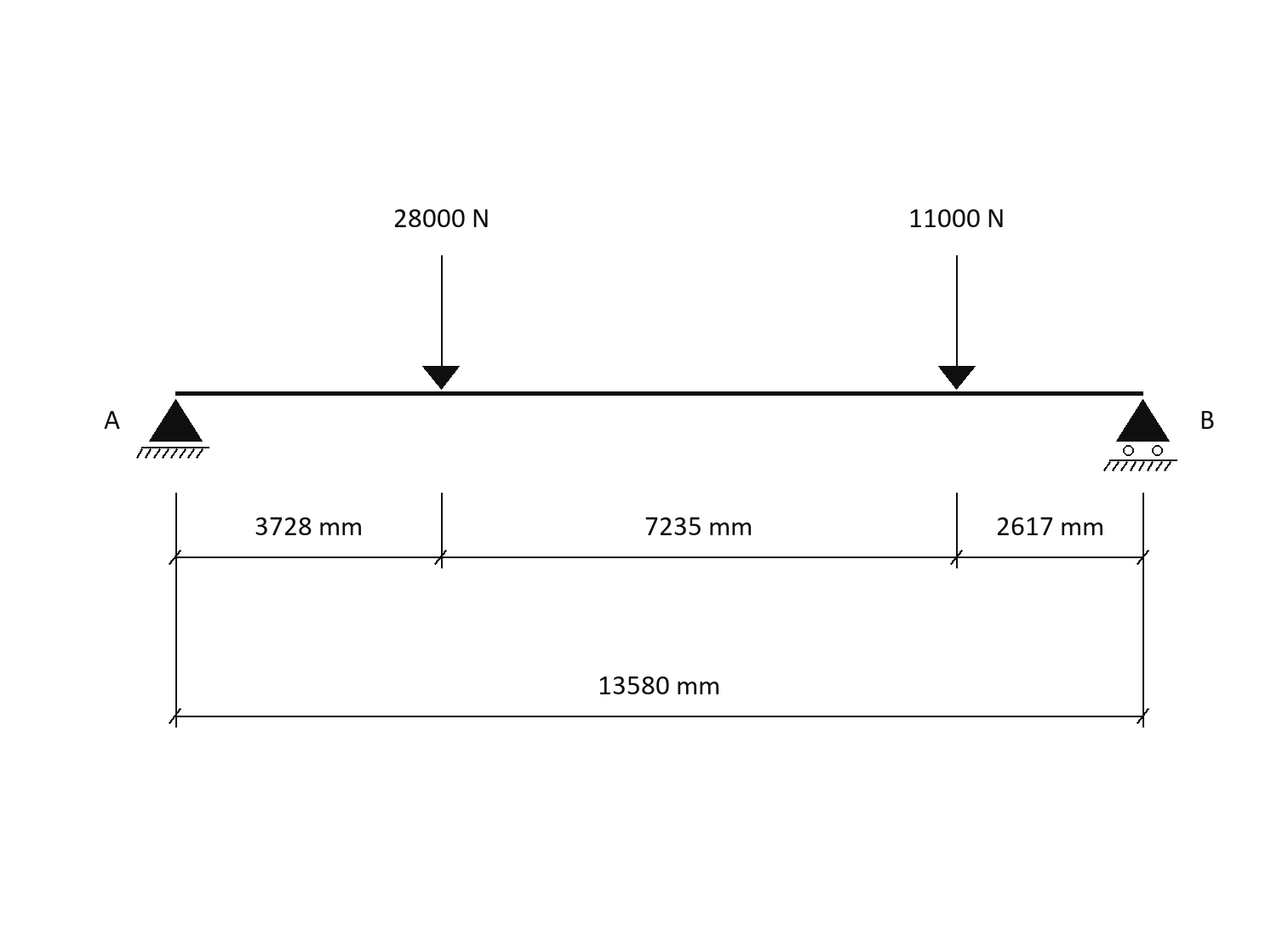pin_support: (136, 399, 209, 459)
point_load: (422, 255, 460, 390), (938, 255, 976, 390)
roller_support: (1103, 399, 1177, 471)
